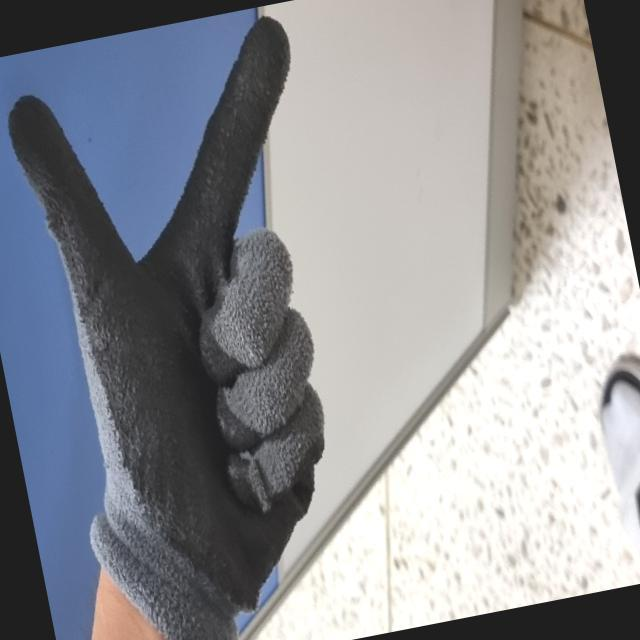Gloves: (5, 11, 330, 640)
